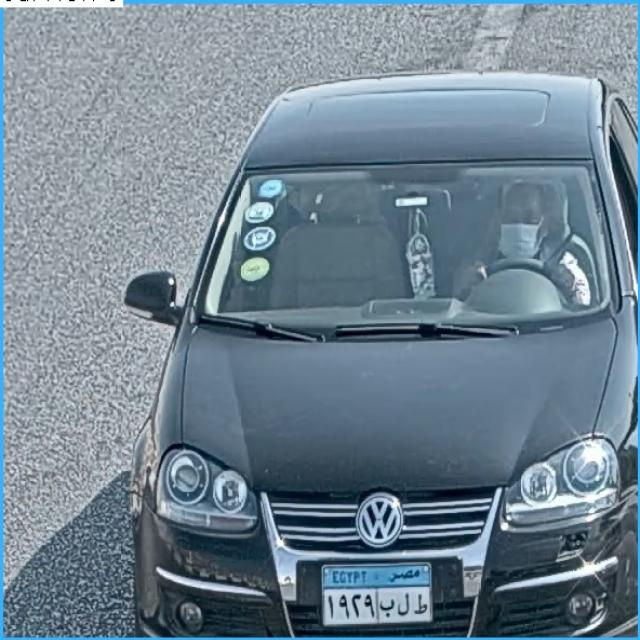windshield: (200, 163, 617, 327)
